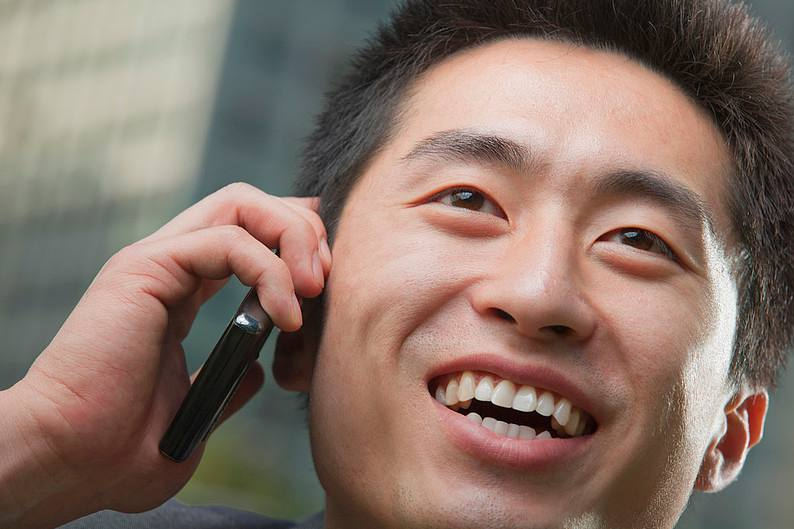calling: (14, 178, 337, 518)
